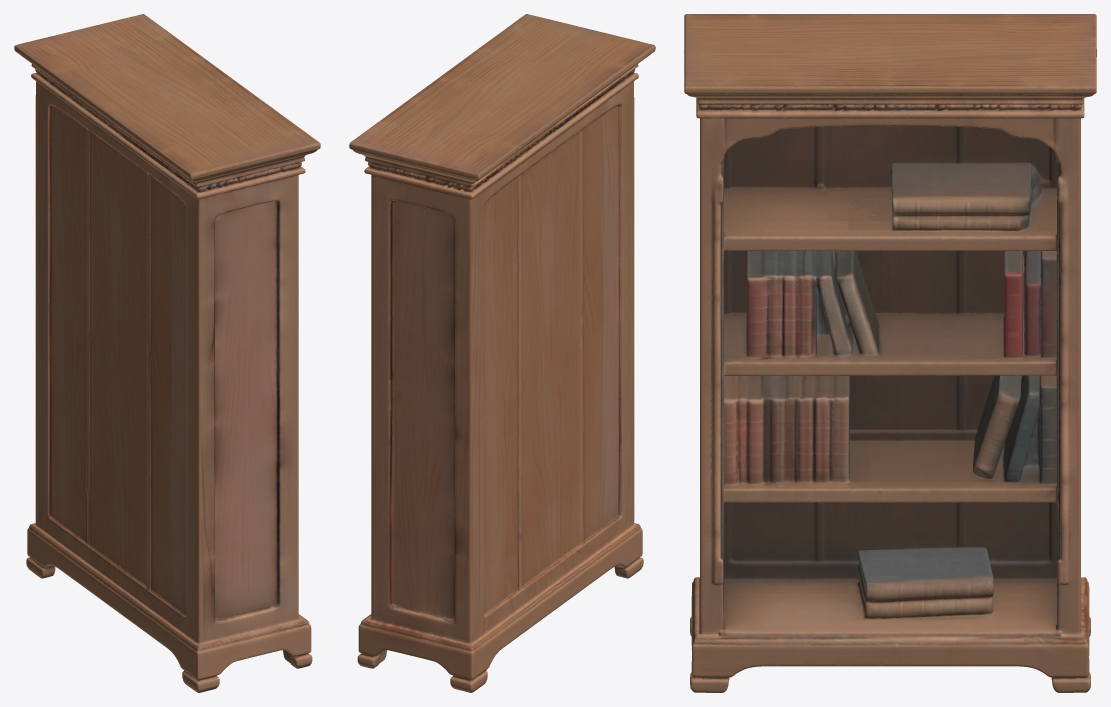
Rendered from detailed_realistic_model_antiquebookshelf_15.glb.
3 renders of one model, left to right at view 1: azimuth 30°, elevation 25°; view 2: azimuth 150°, elevation 25°; view 3: azimuth 270°, elevation 25°, orthographic. The views are drawn at different scales.
Visible parts, largest first — view 1: tripo_node_59fe48bb-d58c-406c-9744-aaabdeadb1b7; view 2: tripo_node_59fe48bb-d58c-406c-9744-aaabdeadb1b7; view 3: tripo_node_59fe48bb-d58c-406c-9744-aaabdeadb1b7.
Part boxes in pixels (left/top/right/bottom): tripo_node_59fe48bb-d58c-406c-9744-aaabdeadb1b7: left=14, top=14, right=320, bottom=692; tripo_node_59fe48bb-d58c-406c-9744-aaabdeadb1b7: left=349, top=14, right=655, bottom=692; tripo_node_59fe48bb-d58c-406c-9744-aaabdeadb1b7: left=684, top=14, right=1096, bottom=692.
Size of the model in its own units: 0.2597 by 1 by 0.613.
Materials: 1 (1 with a texture image).
